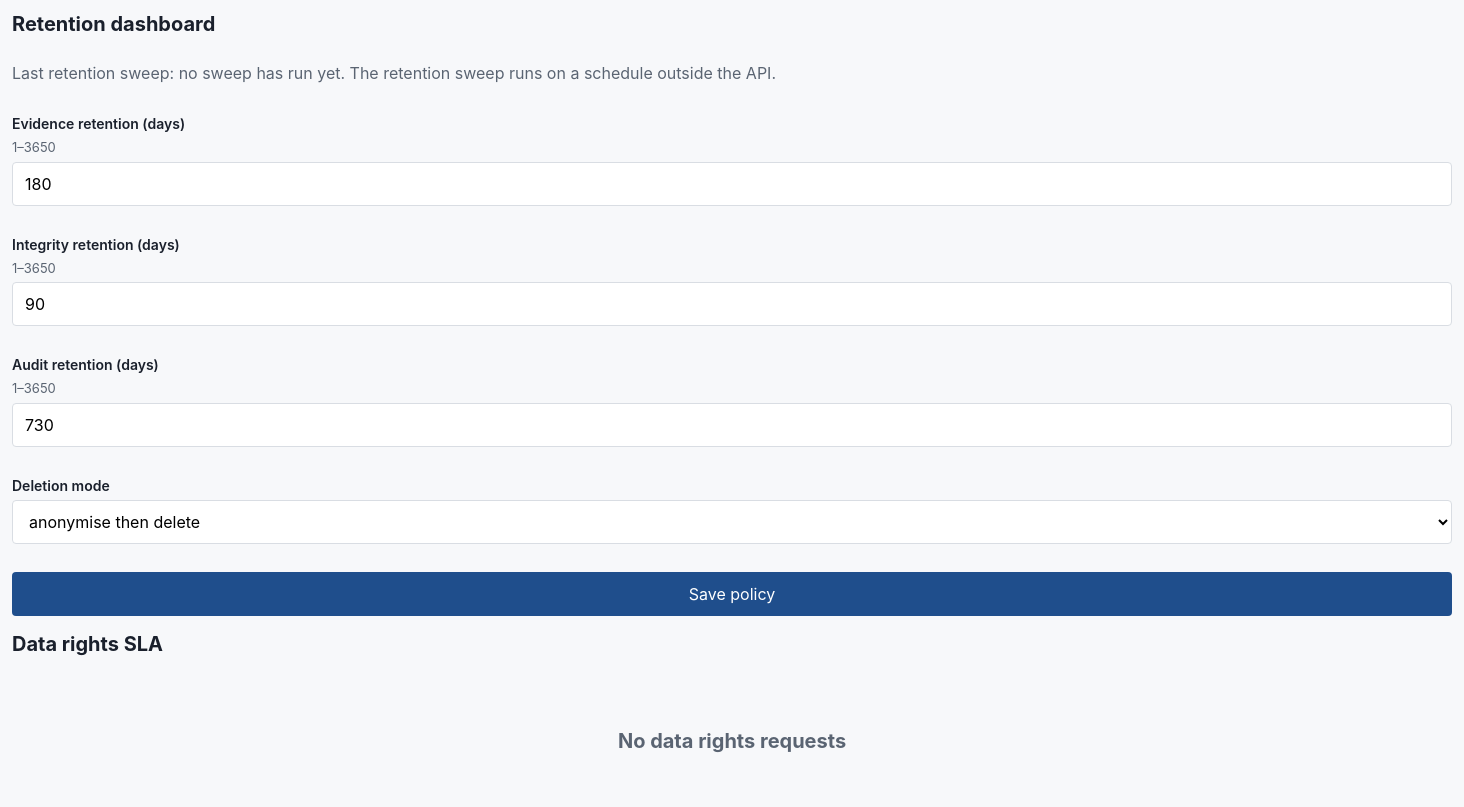
it: CompliancePage › rejects a retention value above the 3650-day bound client-side
(page scrolled)
Replace the text in the number field labelled "Audit retention (days)" with "5000": (732, 424) [12,402,1452,446]
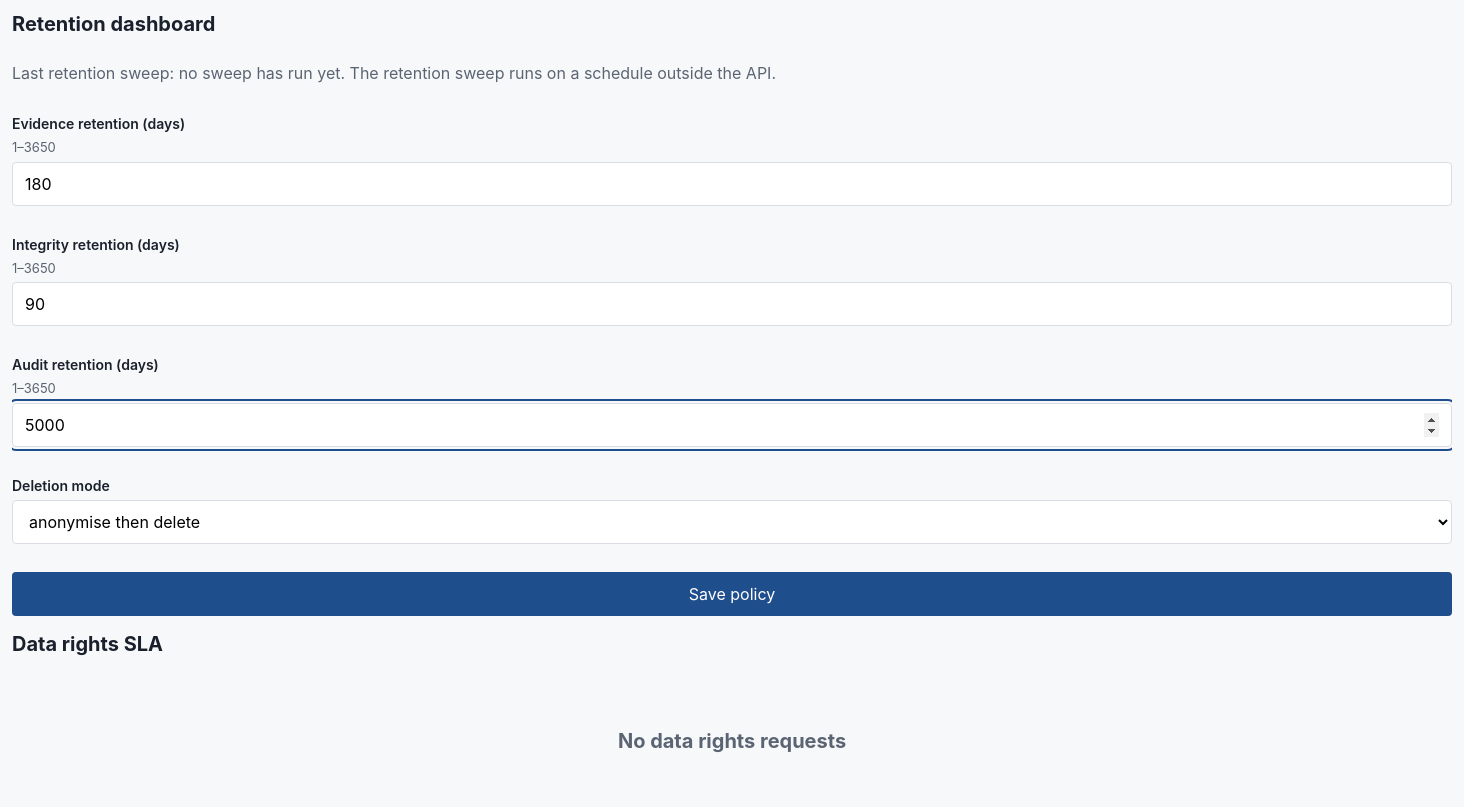
Click the button "Save policy": (732, 594) [12,572,1452,616]
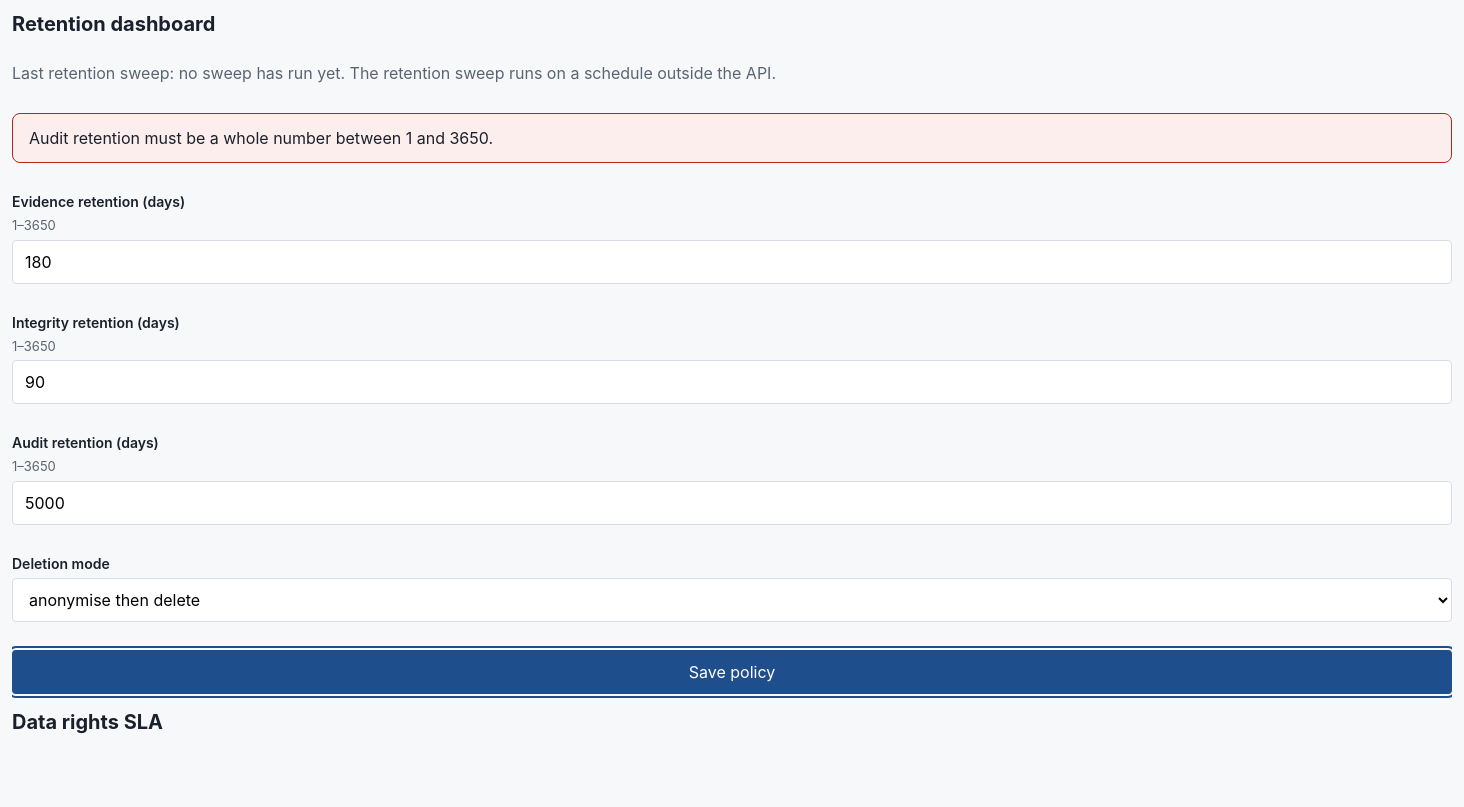
Expected: the text "Audit retention must be a whole number between 1 and 3650." is shown, [12,113,1452,163]
